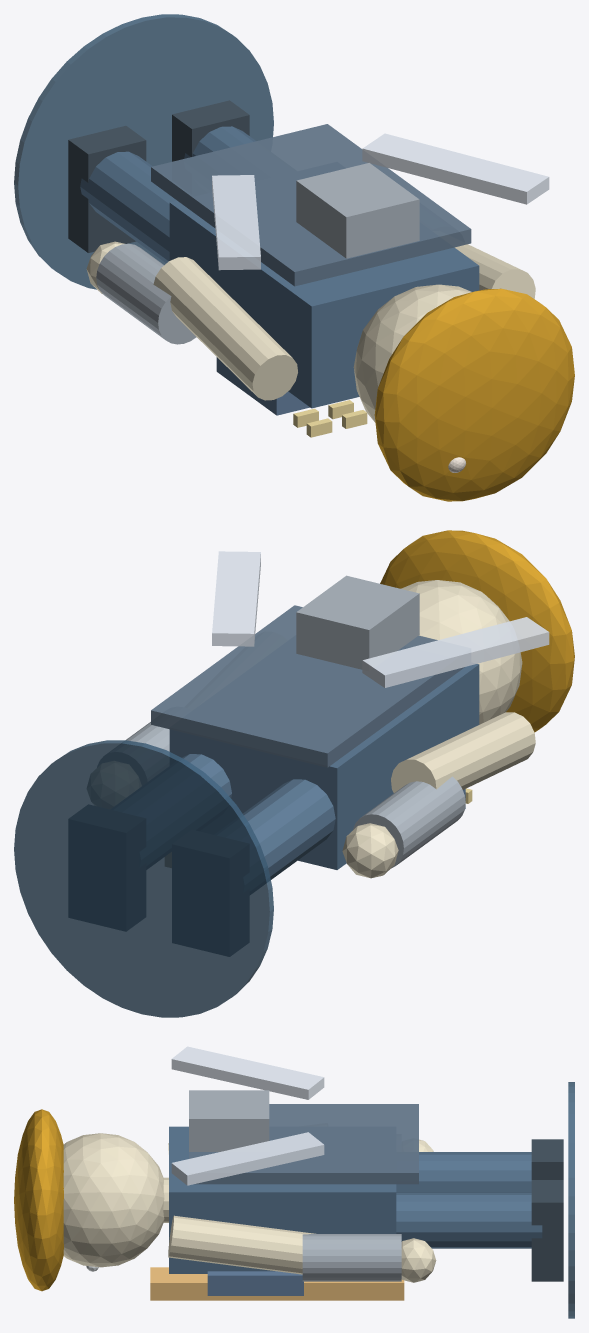
Rendered from SW_NPC_038_mael_wardenmere.glb.
3 renders of one model, top to bottom at view 1: azimuth 30°, elevation 25°; view 2: azimuth 150°, elevation 25°; view 3: azimuth 270°, elevation 25°, orthographic. The views are drawn at different scales.
Parts seen in each view (by area): view 1: mycelian_cap, round_base_plate, torso_uniform, storm_cloak, wingpack_core, left_upper_arm, right_wing_rig, left_leg, head, left_forearm_gauntlet, left_boot, left_wing_rig (+4 smaller); view 2: round_base_plate, storm_cloak, torso_uniform, mycelian_cap, wingpack_core, head, left_upper_arm, left_wing_rig, left_leg, left_forearm_gauntlet, right_wing_rig, left_hand (+2 smaller); view 3: torso_uniform, head, storm_cloak, right_leg, mycelian_cap, right_upper_arm, left_leg, right_forearm_gauntlet, wingpack_core, rank_sash, left_wing_rig, right_wing_rig (+5 smaller).
Part boxes in pixels (<box>): mycelian_cap: <box>374,288,574,501</box>; round_base_plate: <box>14,14,273,289</box>; torso_uniform: <box>169,200,479,408</box>; storm_cloak: <box>151,124,471,286</box>; wingpack_core: <box>296,163,419,258</box>; left_upper_arm: <box>153,257,297,400</box>; right_wing_rig: <box>362,133,549,204</box>; left_leg: <box>80,151,176,263</box>; head: <box>353,284,471,422</box>; left_forearm_gauntlet: <box>96,243,196,344</box>; left_boot: <box>68,125,146,252</box>; left_wing_rig: <box>212,175,260,270</box>; round_base_plate: <box>14,740,273,1017</box>; storm_cloak: <box>151,605,464,767</box>; torso_uniform: <box>169,664,479,869</box>; mycelian_cap: <box>380,530,574,732</box>; wingpack_core: <box>296,575,419,669</box>; head: <box>401,580,522,724</box>; left_upper_arm: <box>391,712,535,792</box>; left_wing_rig: <box>362,617,549,687</box>; left_leg: <box>243,779,335,879</box>; left_forearm_gauntlet: <box>353,776,465,868</box>; right_wing_rig: <box>212,551,260,646</box>; left_hand: <box>342,823,398,878</box>; torso_uniform: <box>169,1126,396,1273</box>; head: <box>63,1133,164,1267</box>; storm_cloak: <box>189,1104,418,1184</box>; right_leg: <box>396,1192,542,1248</box>; mycelian_cap: <box>14,1109,63,1291</box>; right_upper_arm: <box>168,1215,315,1274</box>; left_leg: <box>396,1152,531,1192</box>; right_forearm_gauntlet: <box>302,1234,401,1281</box>; wingpack_core: <box>189,1090,269,1151</box>; rank_sash: <box>150,1267,404,1300</box>; left_wing_rig: <box>171,1046,324,1099</box>; right_wing_rig: <box>171,1132,324,1185</box>.
Bounding box in the file's own units: 1.08 × 0.84 × 1.99.
